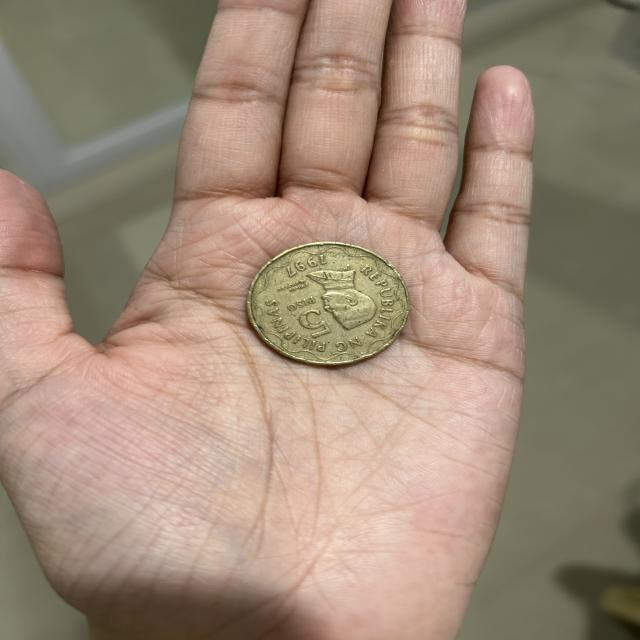5_Old_Front: (276, 296, 334, 342)
